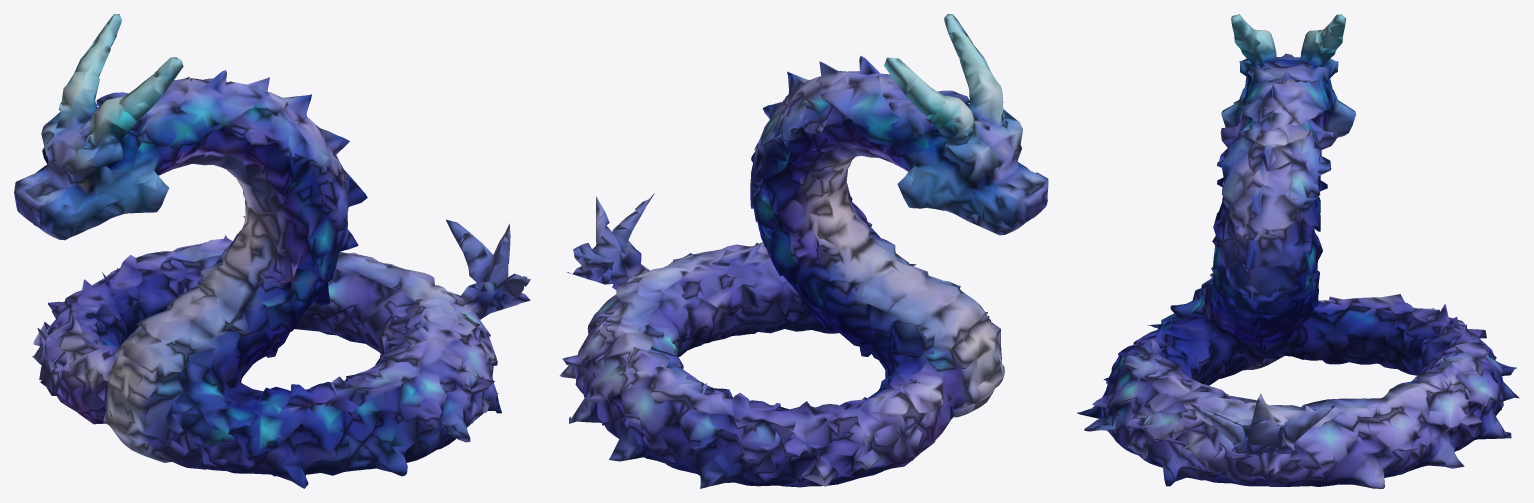
The model's file is enemy_dragon.glb.
3 views of the same model, side by side, from view 1: azimuth 30°, elevation 25°; view 2: azimuth 150°, elevation 25°; view 3: azimuth 270°, elevation 25° (orthographic). The views are drawn at different scales.
Visible parts, largest first — view 1: tripo_node_e2f29a7e-892c-40a8-b2de-9a9da4b230e3; view 2: tripo_node_e2f29a7e-892c-40a8-b2de-9a9da4b230e3; view 3: tripo_node_e2f29a7e-892c-40a8-b2de-9a9da4b230e3.
Boxes of the visible parts, x1,y1,x2,y2 form: tripo_node_e2f29a7e-892c-40a8-b2de-9a9da4b230e3: (14,14,530,488); tripo_node_e2f29a7e-892c-40a8-b2de-9a9da4b230e3: (559,14,1048,488); tripo_node_e2f29a7e-892c-40a8-b2de-9a9da4b230e3: (1077,14,1519,488).
Size of the model in its own units: 0.9757 by 0.7783 by 0.8935.
